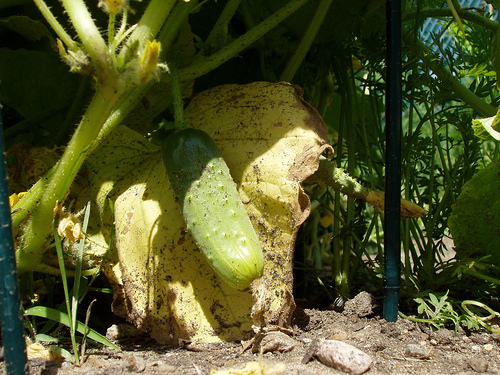cucumber: (162, 126, 265, 289)
